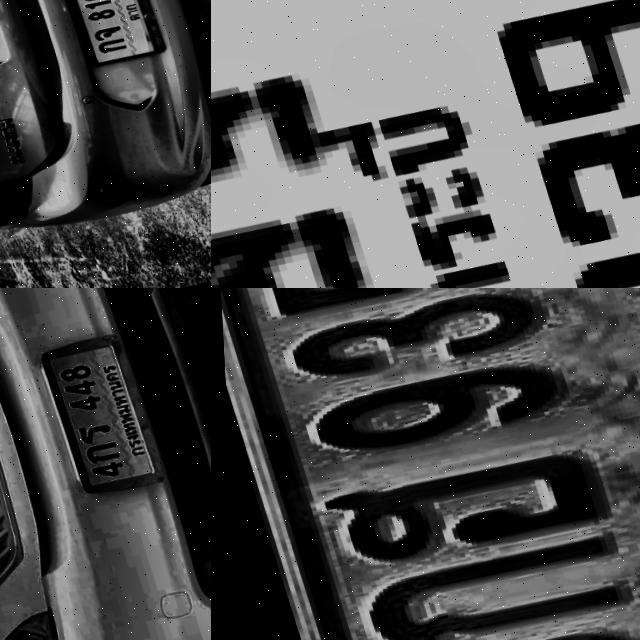license-plate: (211, 288, 640, 640), (211, 0, 640, 288), (31, 319, 165, 497), (54, 0, 165, 67)
